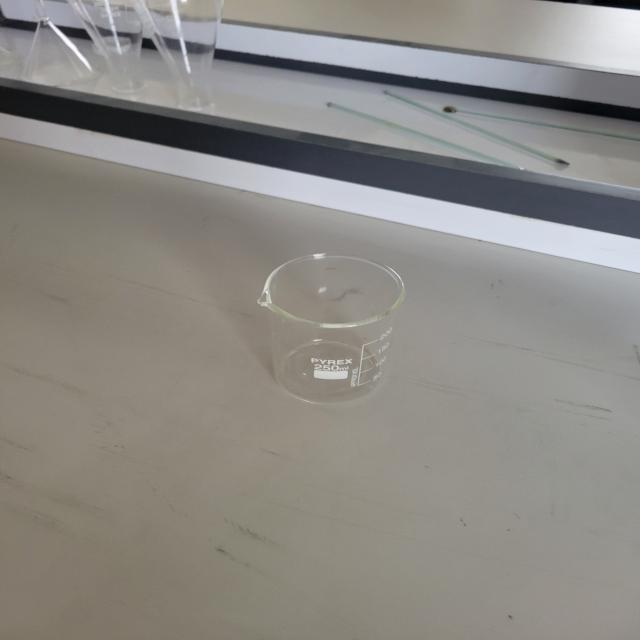Beaker: (250, 244, 410, 414)
